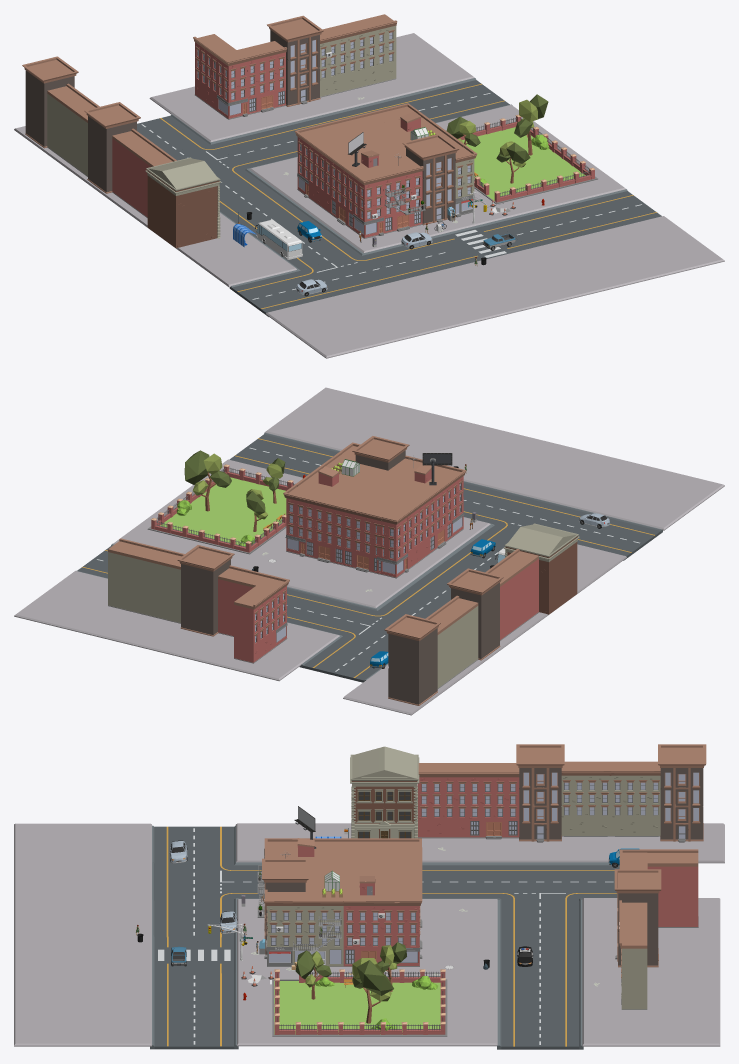
The model's file is city.glb.
The picture shows the model from 3 angles, top to bottom: view 1: azimuth 30°, elevation 25°; view 2: azimuth 150°, elevation 25°; view 3: azimuth 270°, elevation 25°; orthographic projection. The views are drawn at different scales.
Parts seen in each view (by area): view 1: Cube.003, CenterPiece, Cube.002, Cube, Building3_Big, Cube.001, Plane.004, BrownBuilding.001, BrownBuilding.002, BuildingRed1.016, BrownBuilding.003, BuildingRed1.014 (+27 smaller); view 2: Cube.003, CenterPiece, Cube.002, Cube, Plane.004, BrownBuilding.003, Building3_Big, Cube.001, BrownBuilding.001, BuildingRed1.015, BuildingRed1.016, BrownBuilding.002 (+19 smaller); view 3: Cube.003, CenterPiece, Cube, Cube.002, Cube.001, Plane.004, Building3_Big, BrownBuilding.003, BrownBuilding.002, BuildingRed1.010, BuildingRed1.011, BuildingRed1.012 (+23 smaller).
Boxes of the visible parts, x1,y1,x2,y2 form: Cube.003: (266, 216, 724, 358); CenterPiece: (294, 103, 477, 238); Cube.002: (149, 33, 474, 142); Cube: (249, 105, 625, 252); Building3_Big: (145, 157, 221, 248); Cube.001: (14, 126, 296, 287); Plane.004: (462, 127, 597, 204); BrownBuilding.001: (267, 15, 323, 106); BrownBuilding.002: (84, 102, 140, 193); BuildingRed1.016: (347, 14, 397, 88); BrownBuilding.003: (22, 56, 78, 148); BuildingRed1.014: (237, 41, 287, 114); Cube.003: (264, 387, 724, 530); CenterPiece: (283, 436, 466, 578); Cube.002: (14, 571, 339, 681); Cube: (113, 459, 490, 608); Plane.004: (147, 477, 286, 554); BrownBuilding.003: (384, 614, 440, 705); Building3_Big: (503, 523, 579, 614); Cube.001: (343, 544, 626, 715); BrownBuilding.001: (177, 545, 234, 636); BuildingRed1.015: (234, 585, 277, 663); BuildingRed1.016: (108, 538, 158, 615); BrownBuilding.002: (447, 568, 503, 660); Cube.003: (14, 823, 151, 1046); CenterPiece: (257, 806, 422, 966); Cube: (237, 899, 497, 1046); Cube.002: (582, 898, 720, 1046); Cube.001: (235, 823, 724, 863); Plane.004: (272, 979, 447, 1036); Building3_Big: (350, 746, 419, 838); BrownBuilding.003: (658, 744, 706, 842); BrownBuilding.002: (516, 744, 564, 842); BuildingRed1.010: (468, 763, 519, 839); BuildingRed1.011: (417, 763, 468, 838); BuildingRed1.012: (561, 761, 611, 836).
Size of the model in its own units: 24.84 by 5.42 by 33.49.
Materials: 145 (10 with a texture image).
